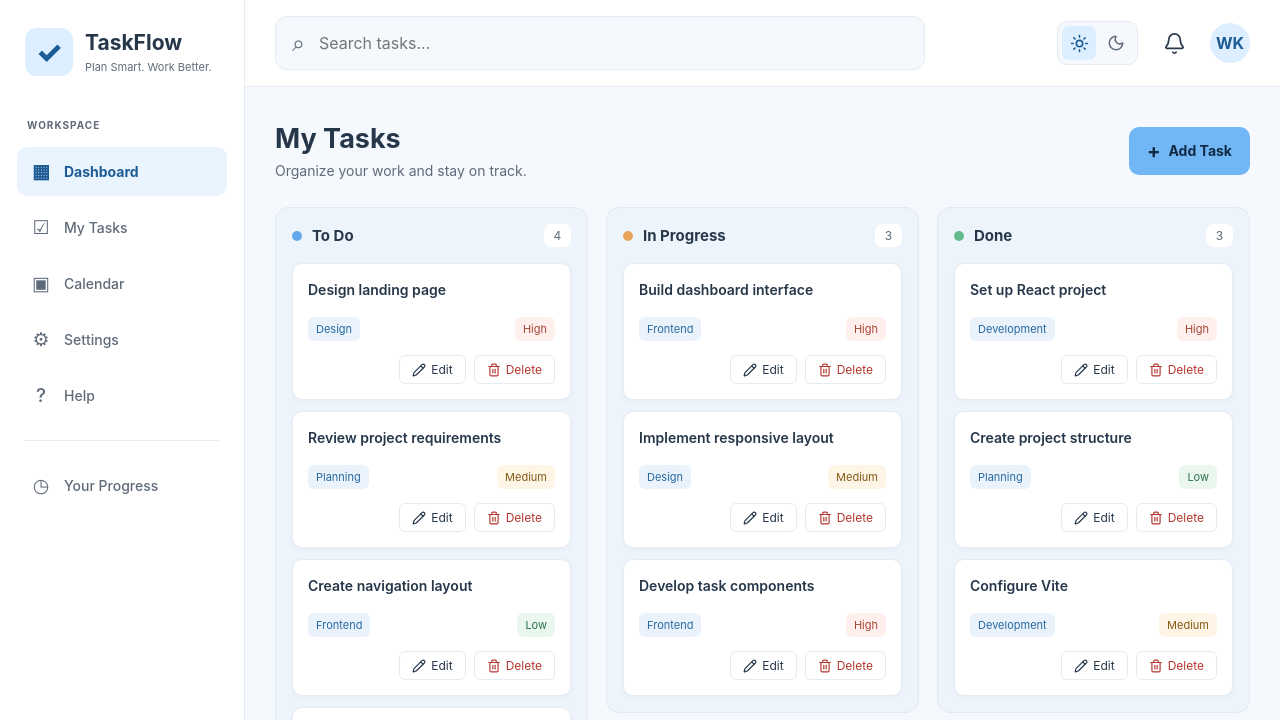
it: dashboard task statistics › supports keyboard reordering and keeps focus on the moved task
This screenshot has width=1280, height=720.
Click the element "Design landing page Design High Edit Delete". click: (432, 332)
box: [292,263,571,400]
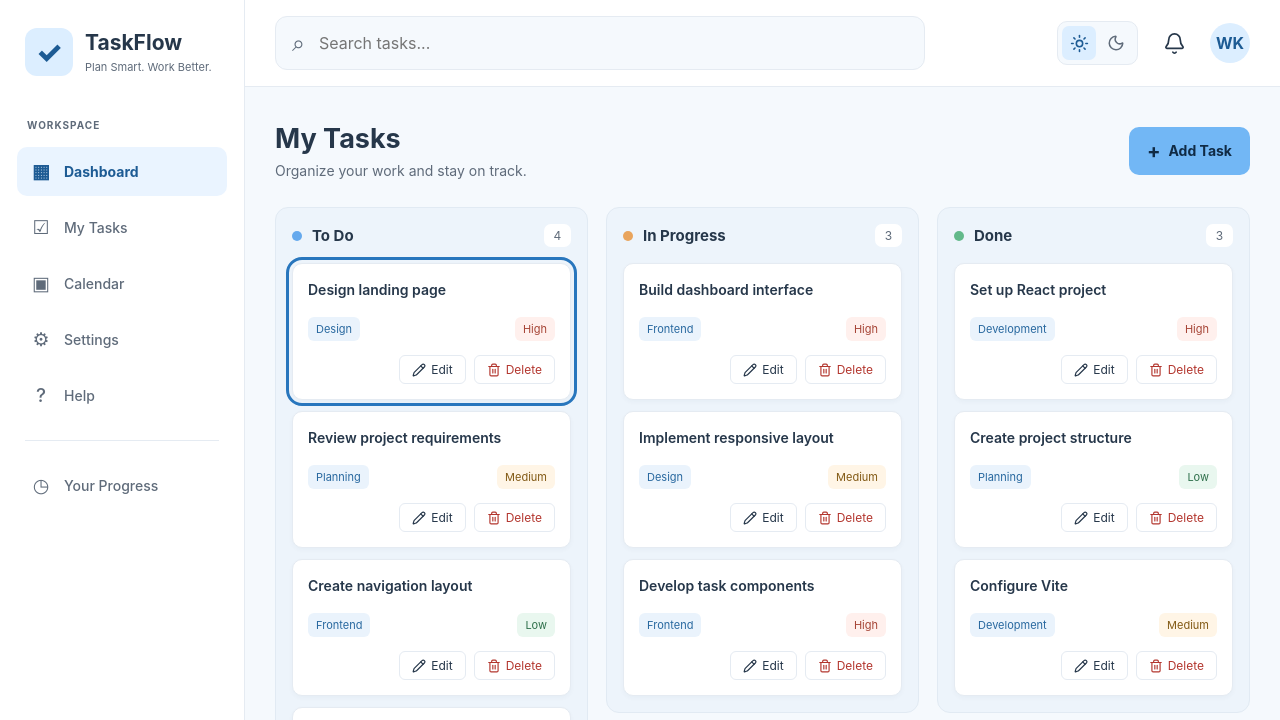
Press Enter Arrowdown Enter
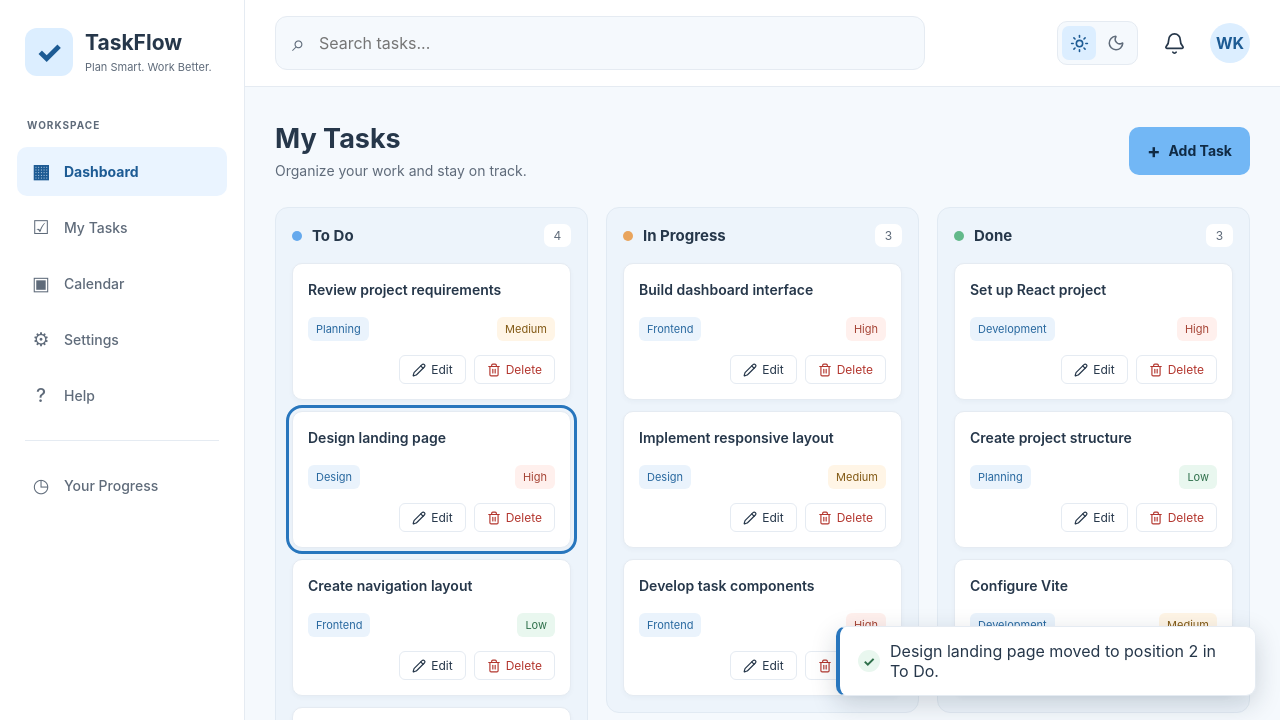
Check: the message with class "task-movement-notification" shows "Design landing page moved to position 2 in To Do.", box [890,641,1216,681]
